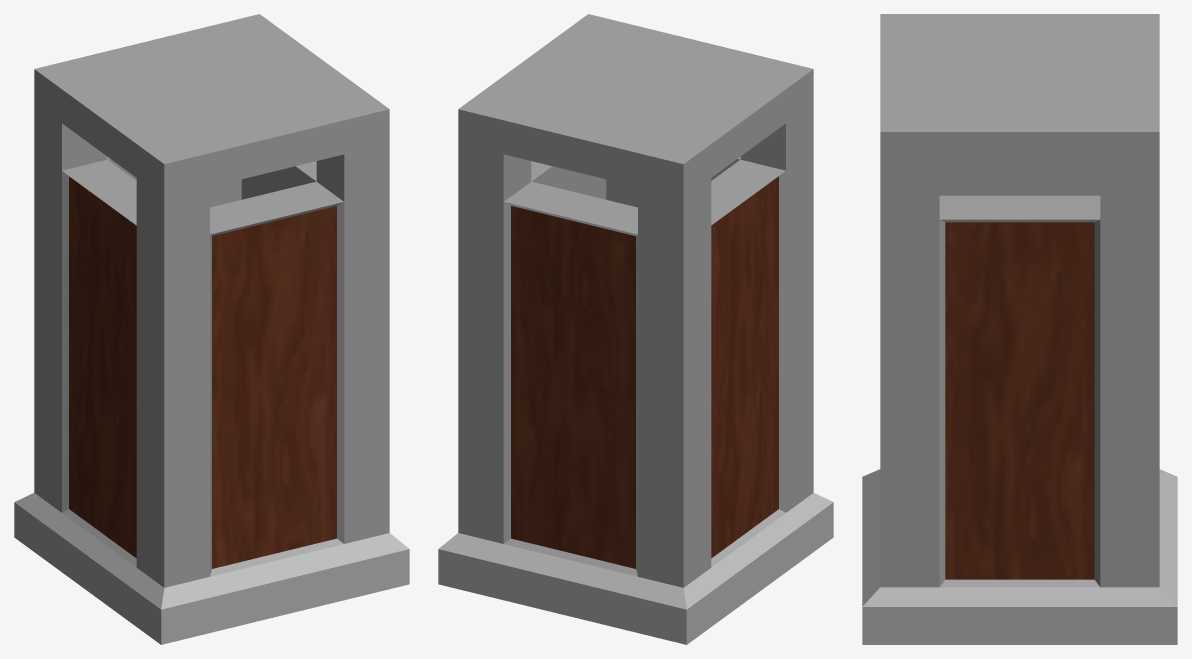
File: lobby_bin.fbx
3 views of the same model, side by side, from view 1: azimuth 30°, elevation 25°; view 2: azimuth 150°, elevation 25°; view 3: azimuth 270°, elevation 25° (orthographic). The views are drawn at different scales.
Parts seen in each view (by area): view 1: dustbin; view 2: dustbin; view 3: dustbin.
Part boxes in pixels (x1,y1,x2,y2): dustbin: [14, 14, 409, 644]; dustbin: [438, 14, 833, 644]; dustbin: [862, 14, 1177, 644].
Size of the model in its own units: 55.13 by 100 by 56.43.
Materials: 2 (1 with a texture image).
